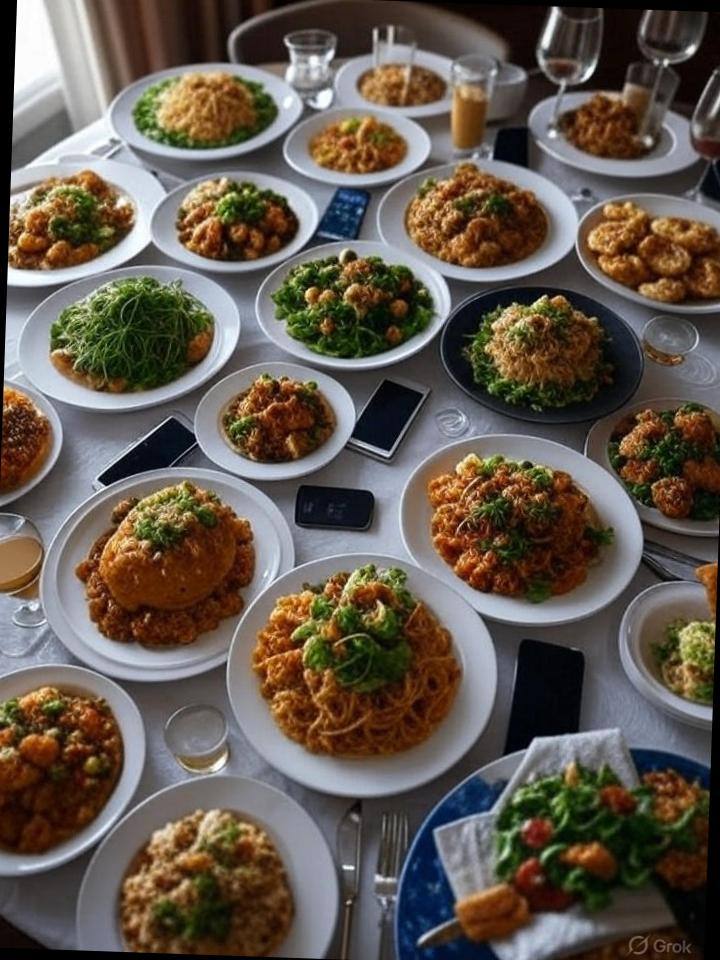reference_object: (374, 382, 426, 469), (294, 486, 363, 534)
